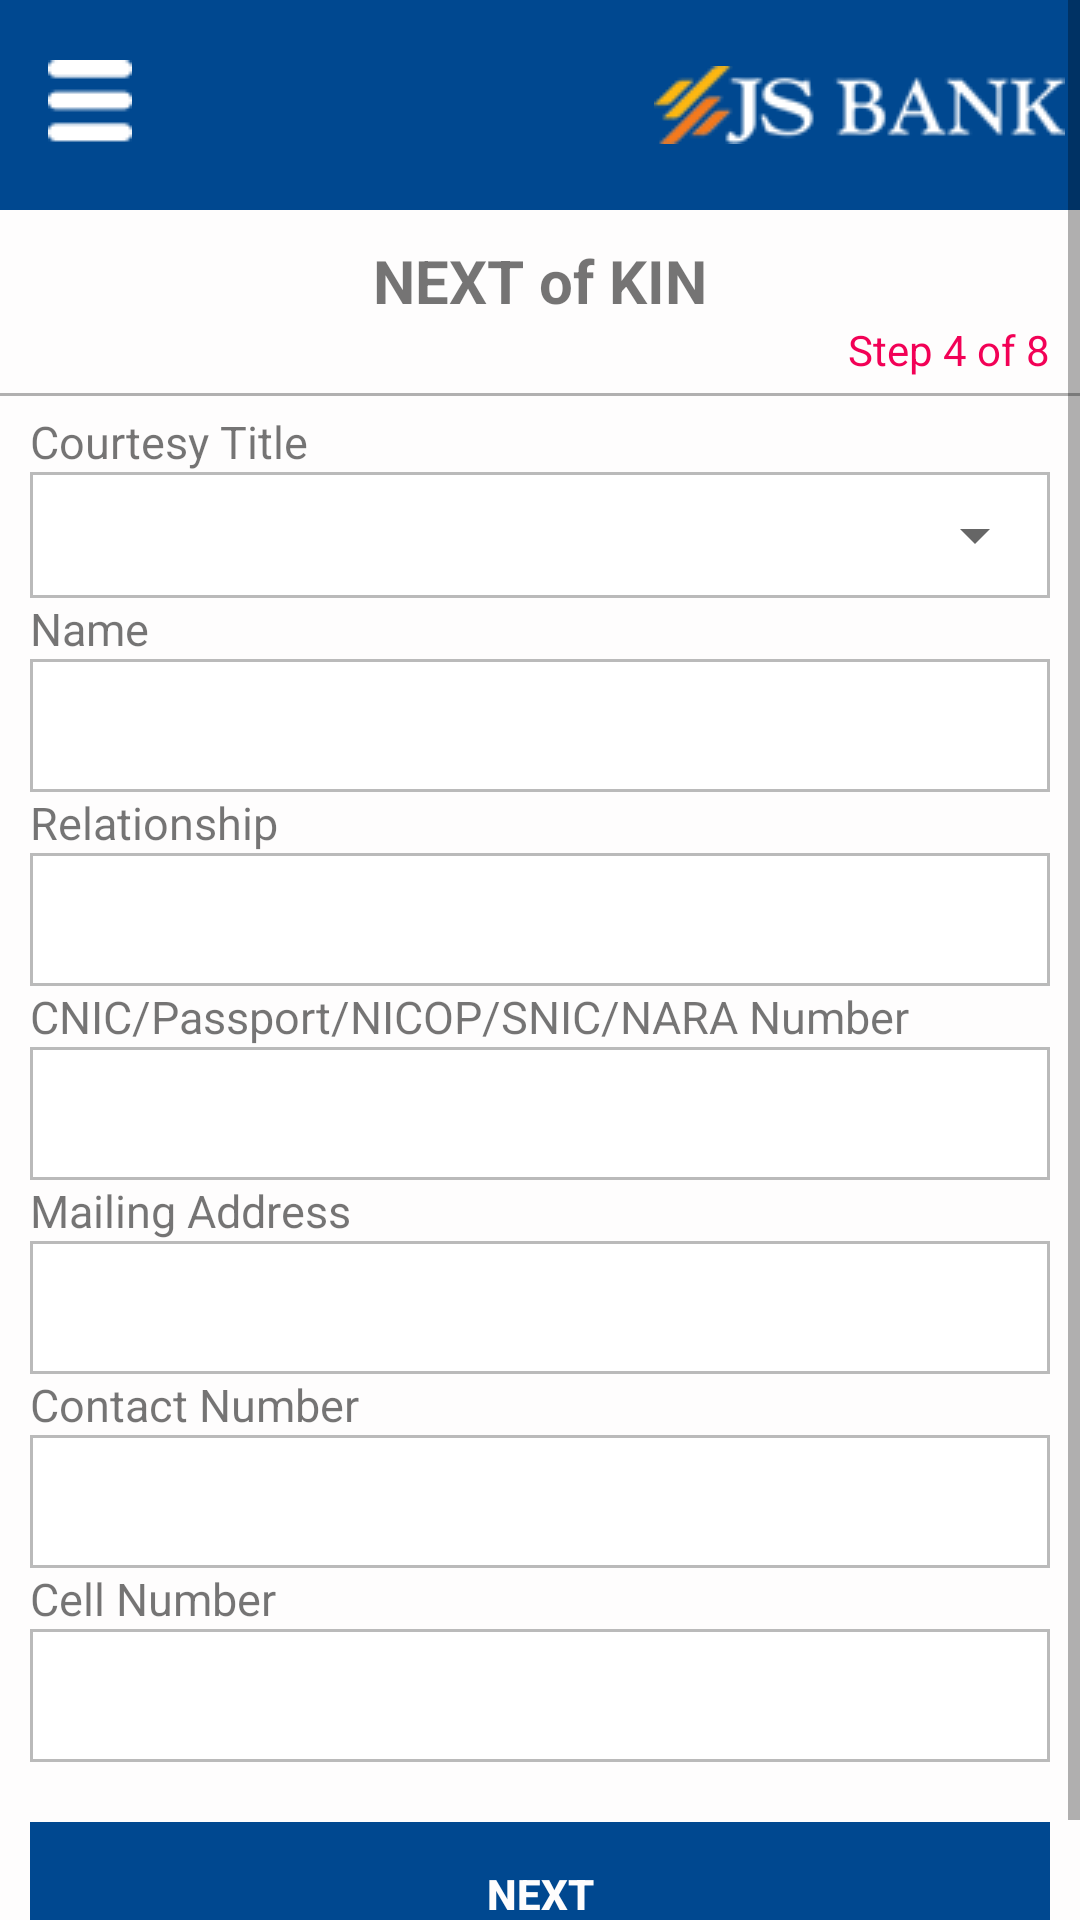

Icons on this 1080x1920 Android screen, each with the point to tap as (x=x, y=y):
menu: (x=90, y=101)
